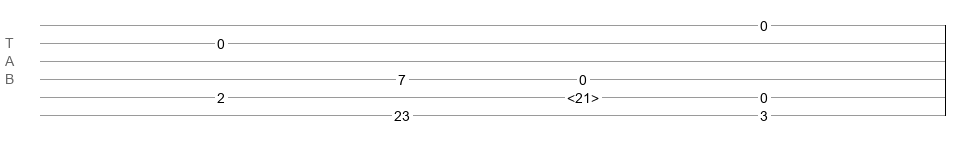0: (217, 36, 225, 46), (579, 72, 587, 82), (760, 18, 768, 28), (760, 90, 768, 100)
2: (217, 90, 225, 100)
23: (394, 108, 410, 118)
3: (760, 108, 768, 118)
7: (398, 72, 406, 82)
harmonic: (567, 90, 599, 100)
